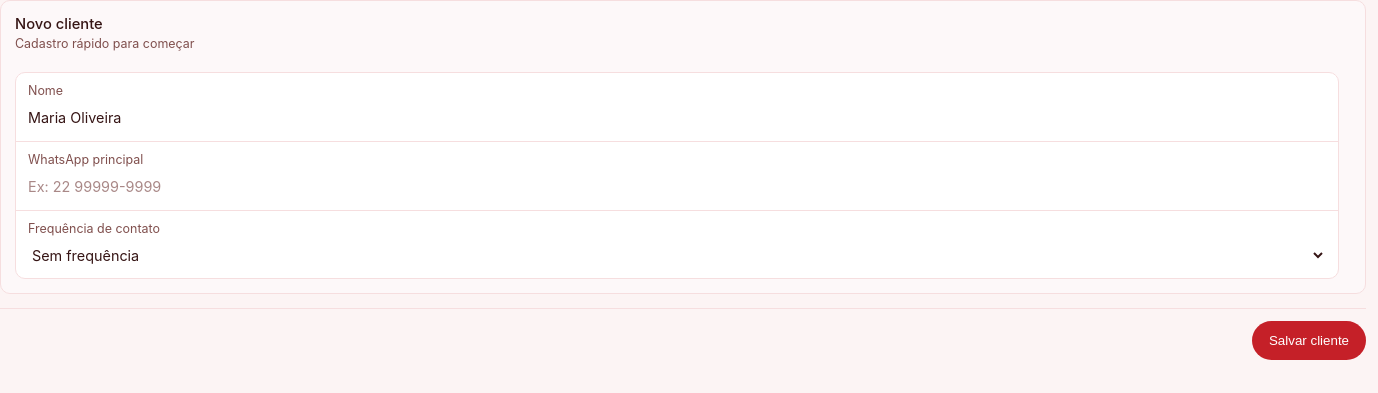
Scenario: ClientQuickForm › keeps the form open with an error when creation fails
Click the button "Salvar cliente" at (1309,341), box [1252, 321, 1366, 360]
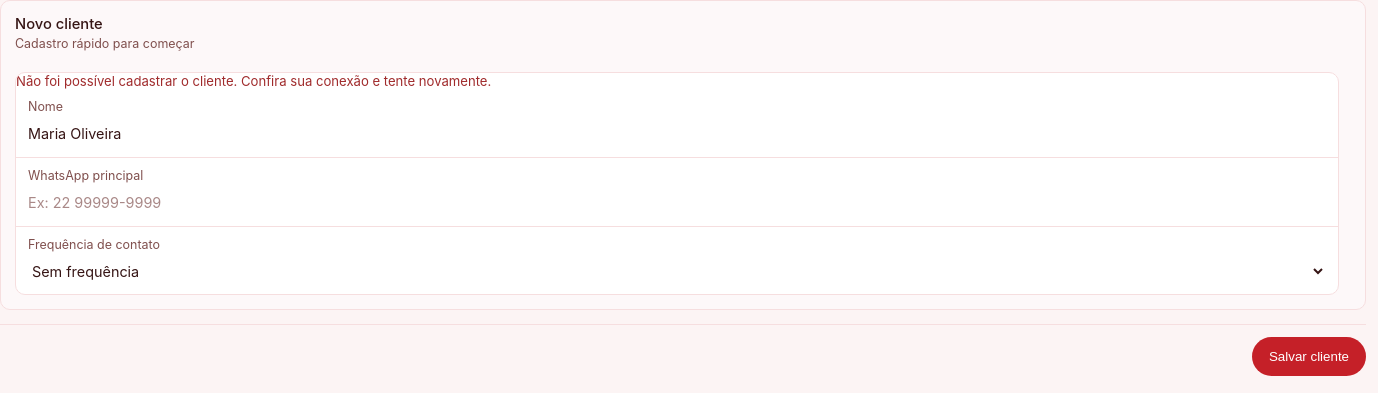
Expected: the field labelled "Nome" holds "Maria Oliveira", [28, 121, 1326, 147]
Expected: the message shows "Não foi possível cadastrar o cliente", [16, 73, 491, 89]
